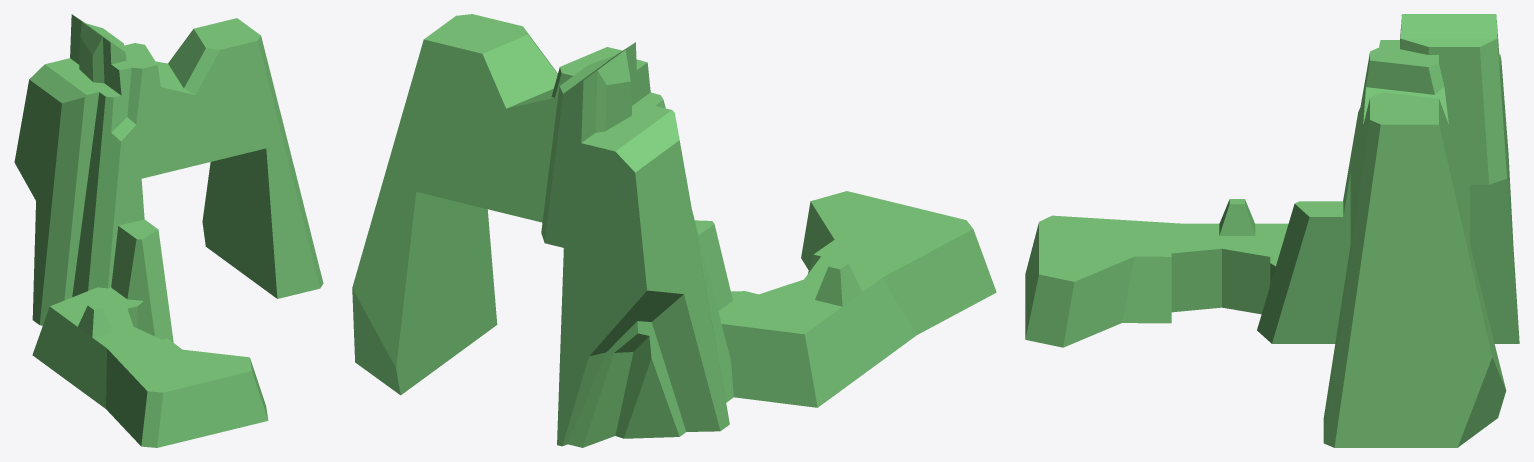
Rendered from x_ZT3_block_29_1_rmstrd.fbx.
3 views of the same model, side by side, from view 1: azimuth 30°, elevation 25°; view 2: azimuth 150°, elevation 25°; view 3: azimuth 270°, elevation 25° (orthographic). The views are drawn at different scales.
Parts seen in each view (by area): view 1: x_ZT3_block_29_1_rmstrd1; view 2: x_ZT3_block_29_1_rmstrd1; view 3: x_ZT3_block_29_1_rmstrd1.
Part boxes in pixels (box(x1,y1,x2,y2)): x_ZT3_block_29_1_rmstrd1: box(14, 14, 323, 447); x_ZT3_block_29_1_rmstrd1: box(352, 14, 996, 447); x_ZT3_block_29_1_rmstrd1: box(1025, 14, 1519, 447).
Size of the model in its own units: 20.04 by 16.78 by 23.19.
